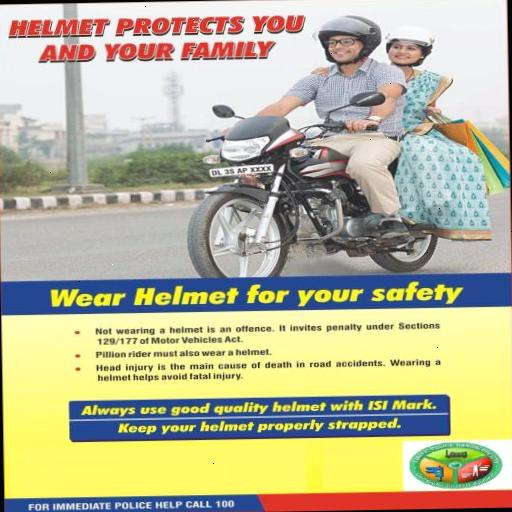helmet: (283, 12, 409, 272)
